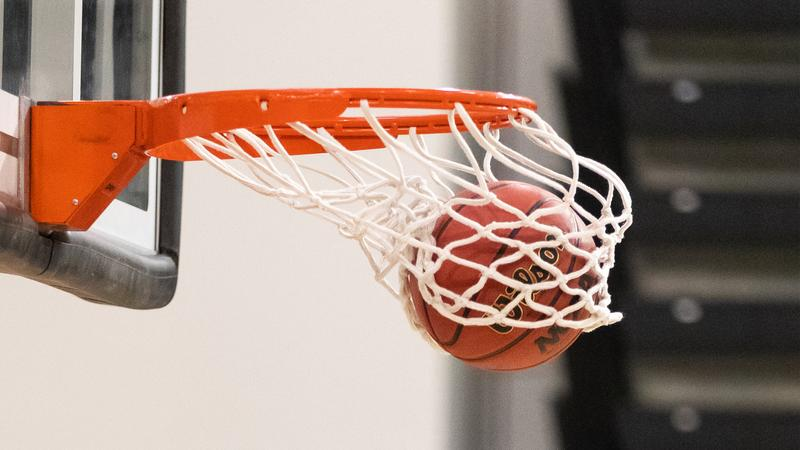MadeBasket: (141, 87, 633, 372)
